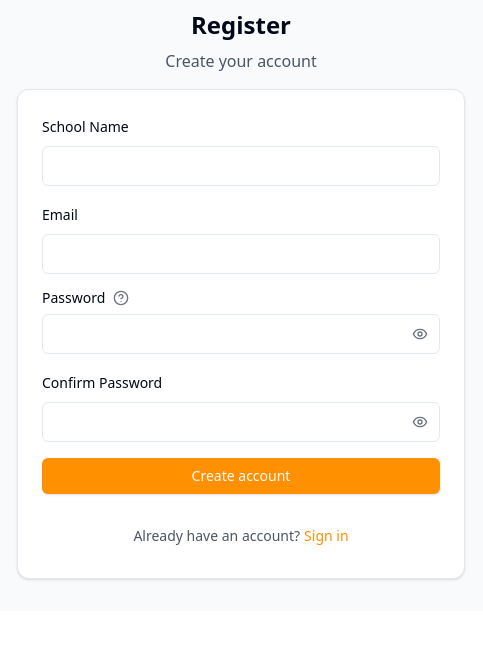
Register Page › shows error on server error
Type "Test School" into the field labelled "School Name" at point(241, 166), box [42,146,440,186]
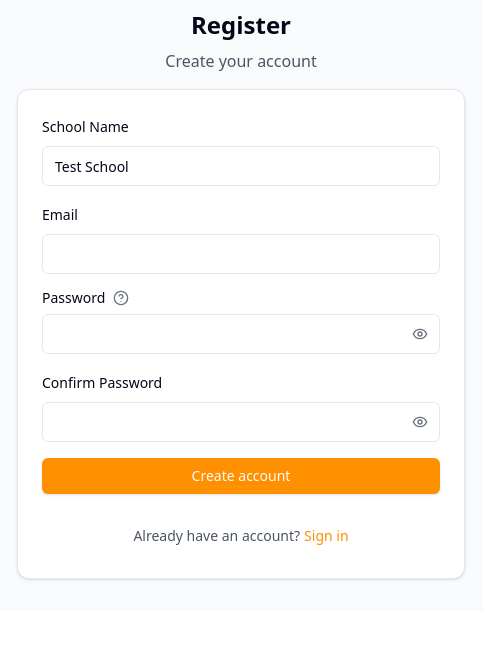
Type "test@school.com" into the field with id "email" at point(241, 254), box [42,234,440,274]
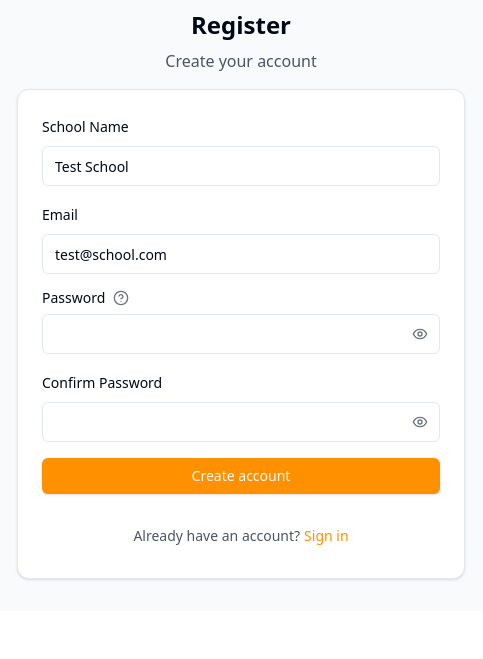
Type "Password123!" into the password field labelled "Password" at point(241, 334), box [42,314,440,354]
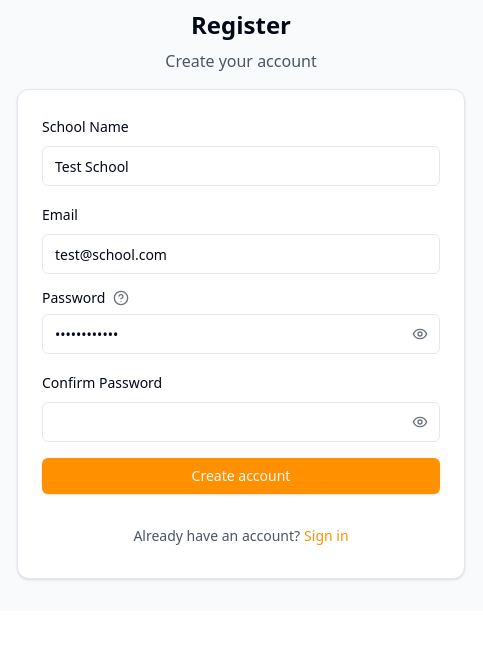
Type "Password123!" into the password field with id "confirm-password" at point(241, 422), box [42,402,440,442]
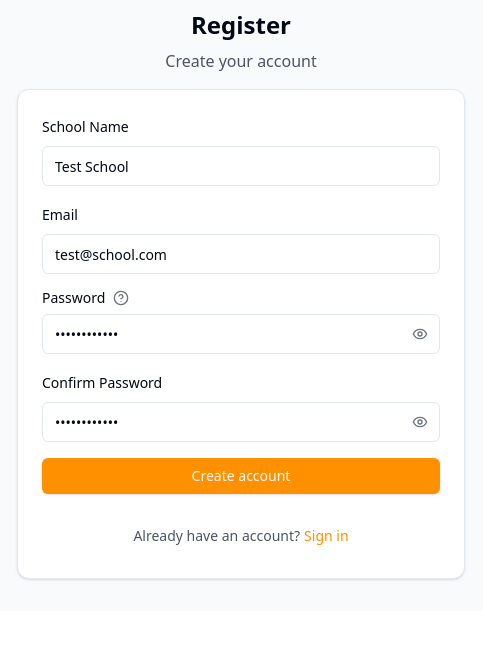
Click the button with id "sign-up-btn" at point(241, 476), box [42,458,440,494]
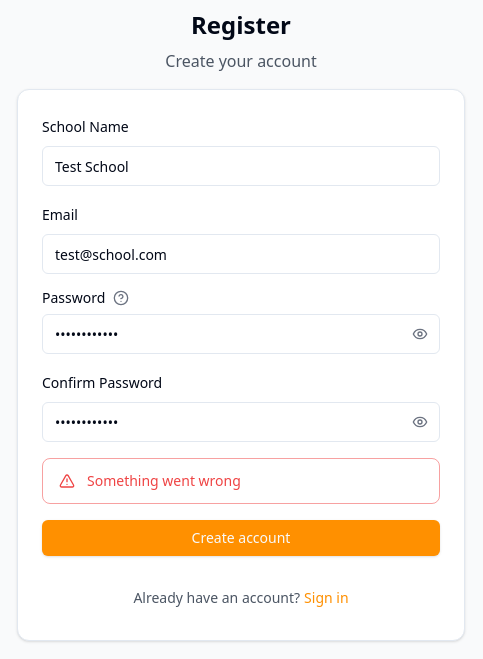
Now the text with id "register-error-message" reads "Something went wrong", box [87,471,241,490]
